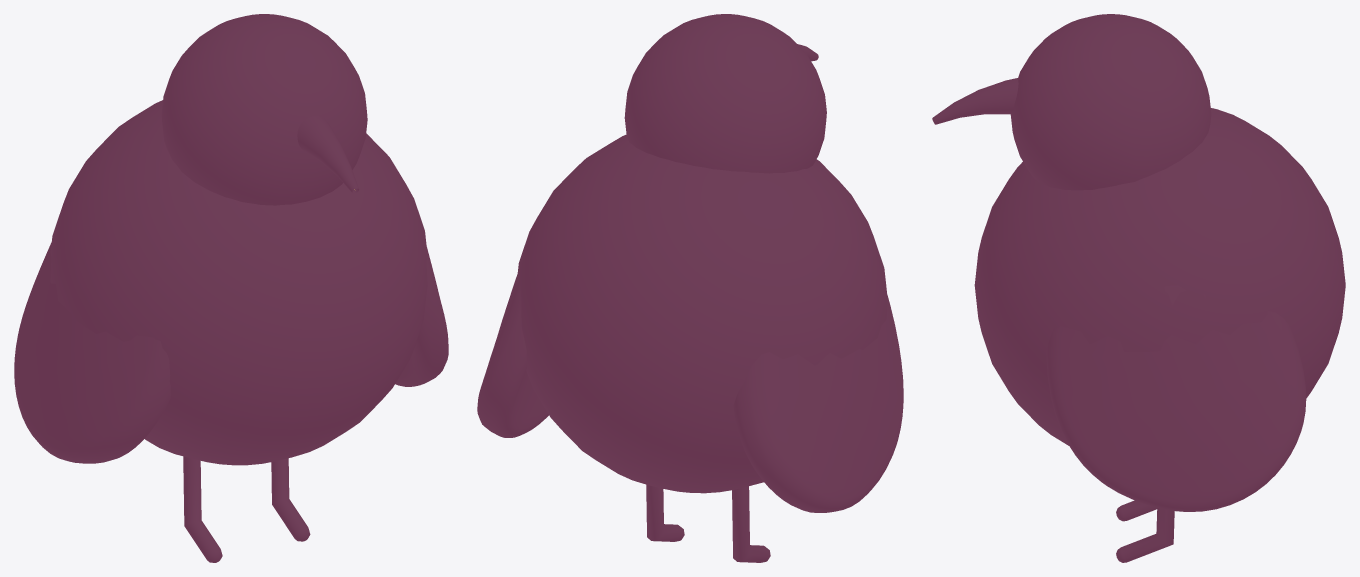
File: Birb__001 1.fbx
3 renders of one model, left to right at view 1: azimuth 30°, elevation 25°; view 2: azimuth 150°, elevation 25°; view 3: azimuth 270°, elevation 25°, orthographic. The views are drawn at different scales.
Parts seen in each view (by area): view 1: Birb; view 2: Birb; view 3: Birb.
Part boxes in pixels (<box>): Birb: <box>14,14,448,562</box>; Birb: <box>477,14,903,562</box>; Birb: <box>932,14,1345,562</box>.
Bounding box in the file's own units: 46.66 × 65.16 × 47.12.
